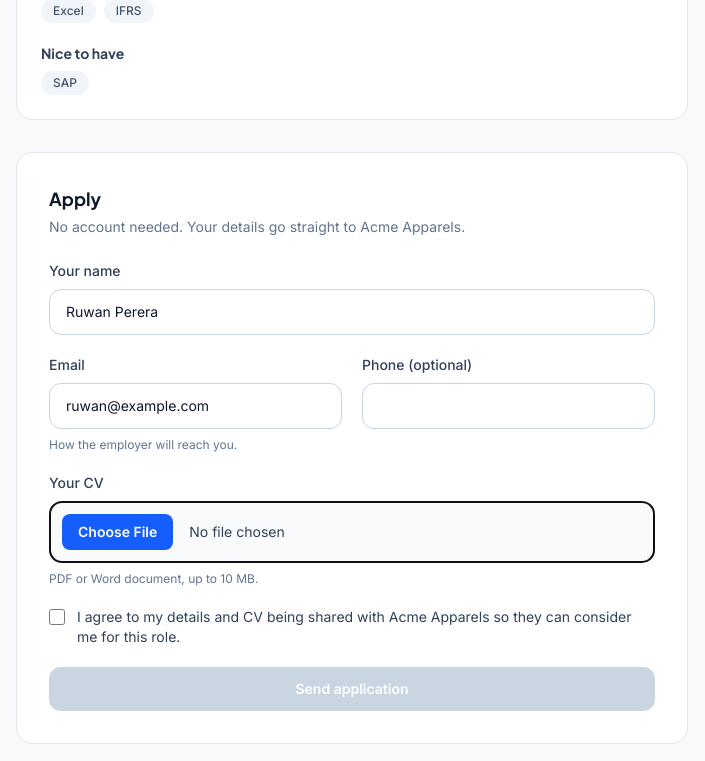
Test: ApplyContent › the form › will not send until every required part is there
The image size is (705, 761).
Earlier steps of the test are not shown.
(page scrolled)
Expected: the button "Send application" is disabled, x1=49 y1=667 x2=655 y2=711
Click the checkbox at (57, 617), box x1=49 y1=609 x2=65 y2=625
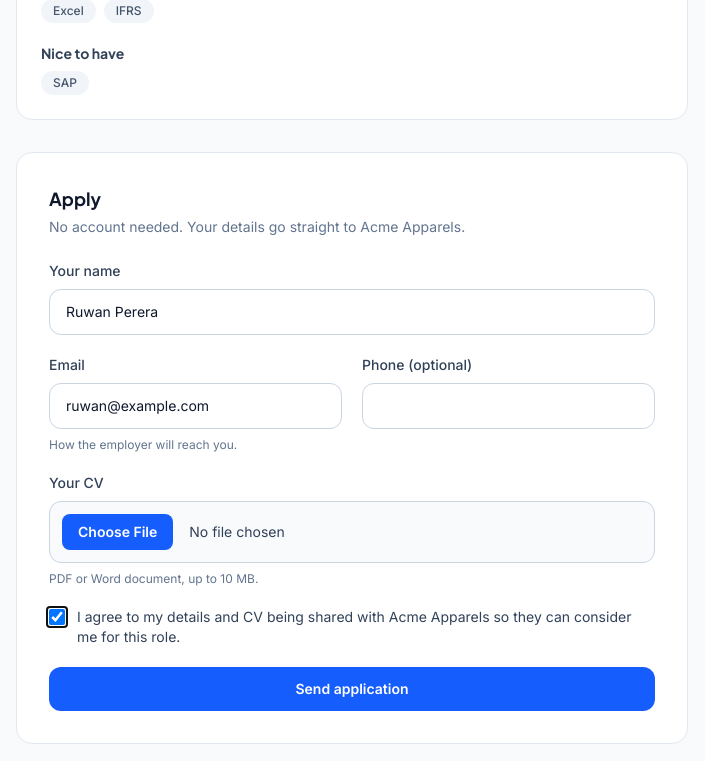
Result: the button "Send application" is enabled at x1=49 y1=667 x2=655 y2=711
